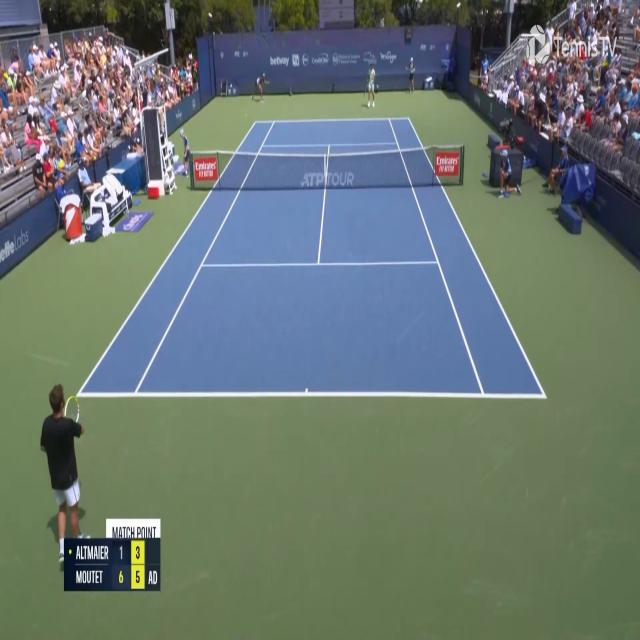tennis-player: (38, 380, 88, 553), (364, 63, 378, 108)
